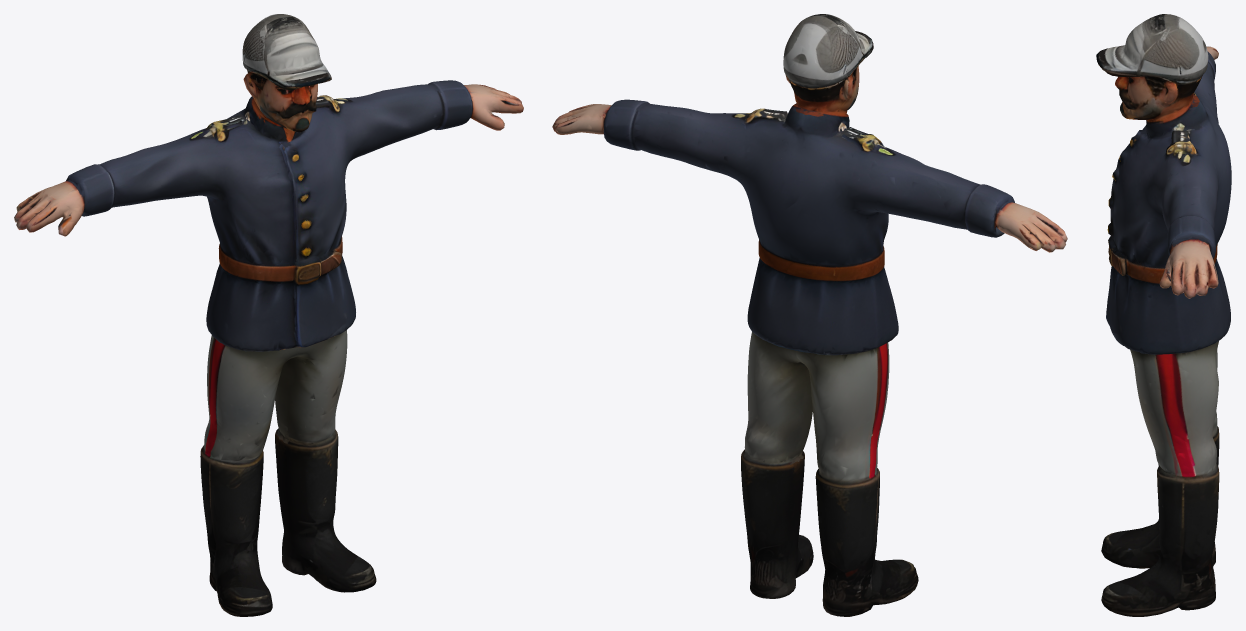
The model's file is villegas.glb.
3 renders of one model, left to right at view 1: azimuth 30°, elevation 25°; view 2: azimuth 150°, elevation 25°; view 3: azimuth 270°, elevation 25°, orthographic.
Parts seen in each view (by area): view 1: villegas; view 2: villegas; view 3: villegas.
Part boxes in pixels (x1,y1,x2,y2): villegas: [14, 14, 523, 616]; villegas: [552, 14, 1067, 616]; villegas: [1096, 14, 1231, 616].
Size of the model in its own units: 1.64 by 1.76 by 0.3813.
Materials: 1 (1 with a texture image).
